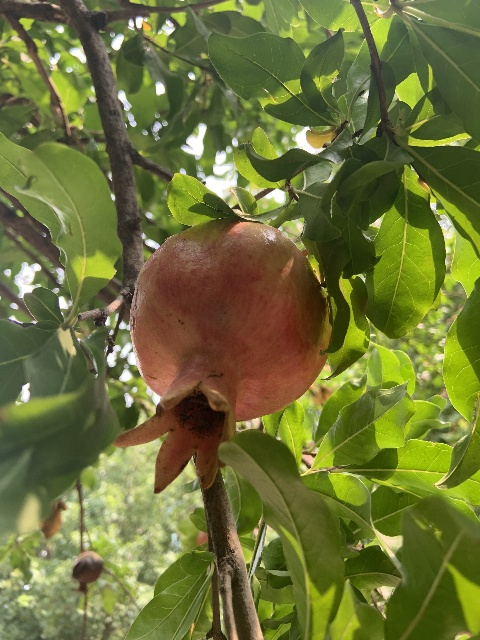ripe: (110, 218, 329, 496)
